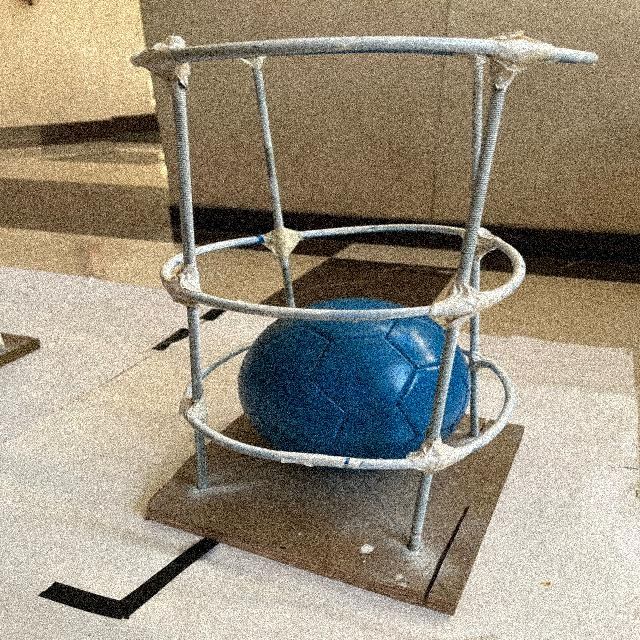blue_ball: (244, 300, 466, 459)
silo: (124, 37, 603, 619)
